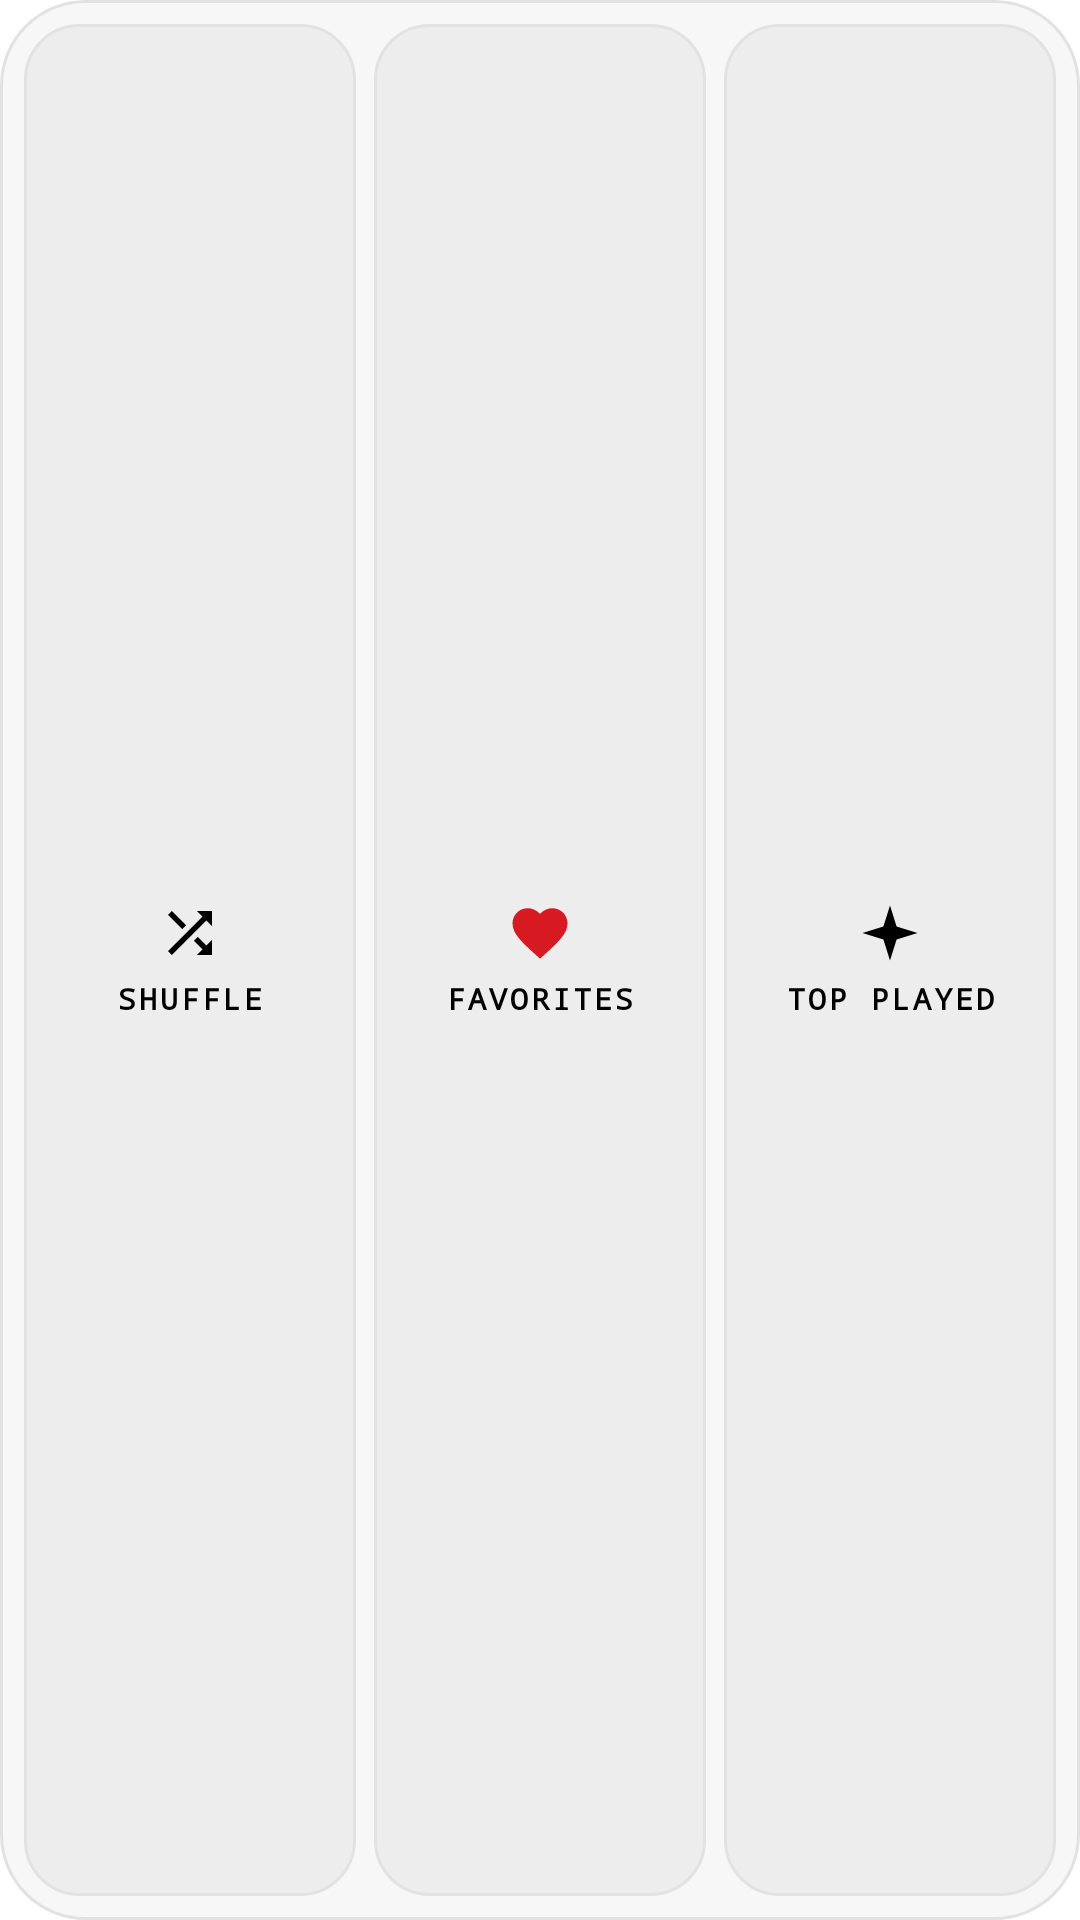

Where to tap for icons on this 1080px×1920px app screen, as (x,y):
widget heart: (540,933)
widget spark: (890,933)
